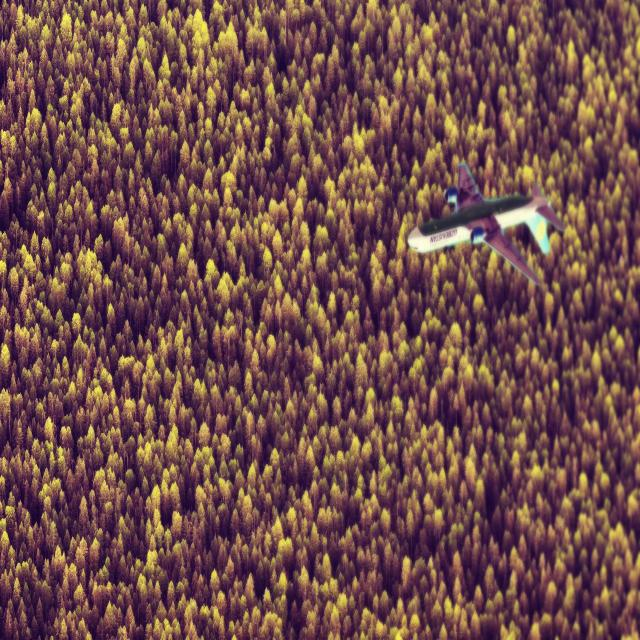airplane: (406, 159, 564, 286)
